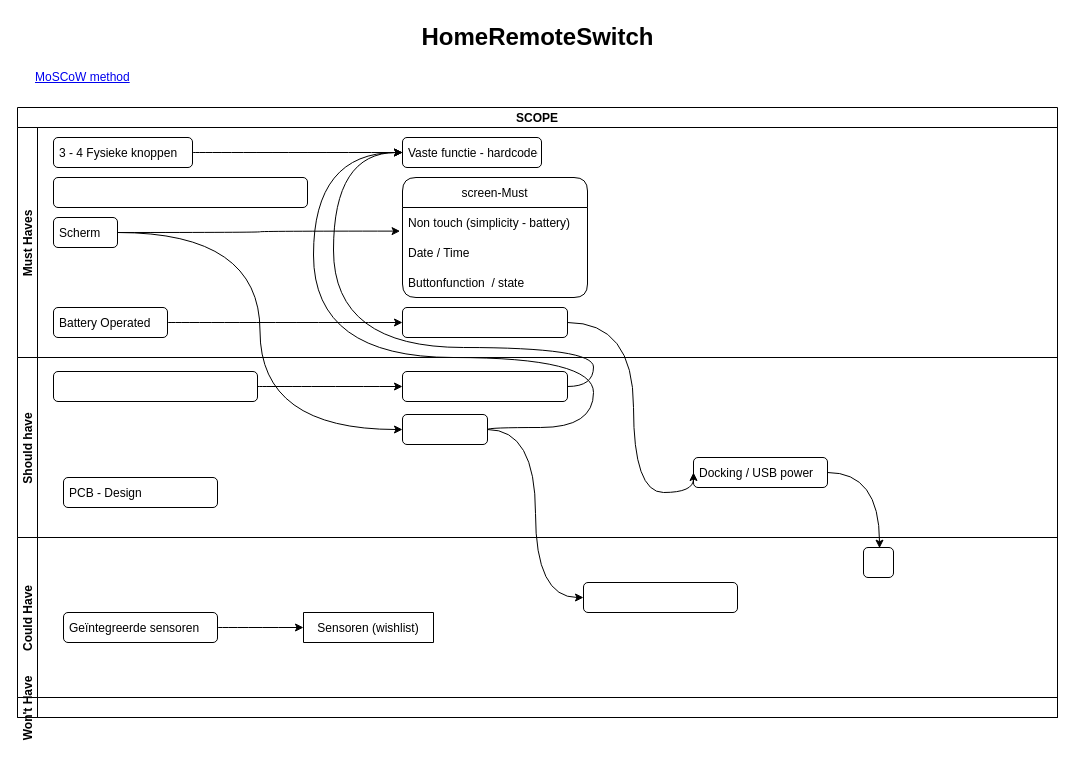
Some shapes in this 1075 by 757 pixel diagram are drawn without their labels. Here are the shapes that lost their labels. From the top down, the centre of each, then its label:
pixel 180 192: Handheld formfactor (max ~= 6*10*1,5 cm)
pixel 485 322: Oplaadbaar of vervangbaar
pixel 155 386: NFC Tag reader - Room Selector
pixel 485 386: Switch functions per room
pixel 445 429: Touchscreen
pixel 878 562: QI
pixel 660 597: Programmeerbaar via App
